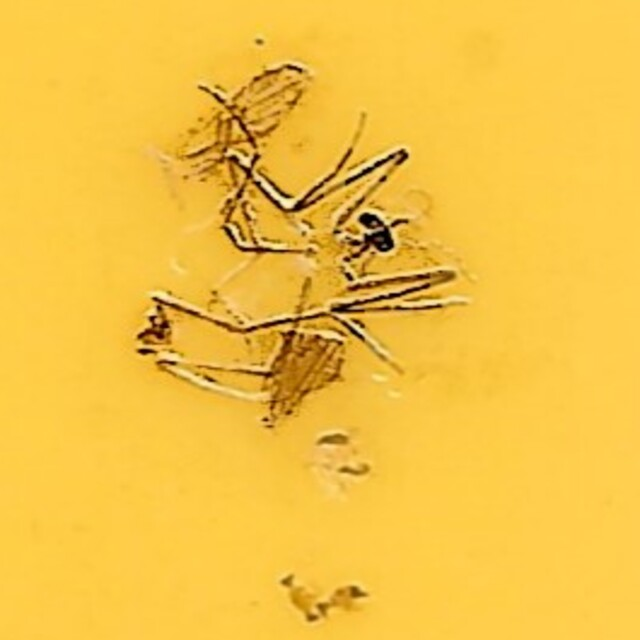Nematocera: (242, 206, 398, 434)
